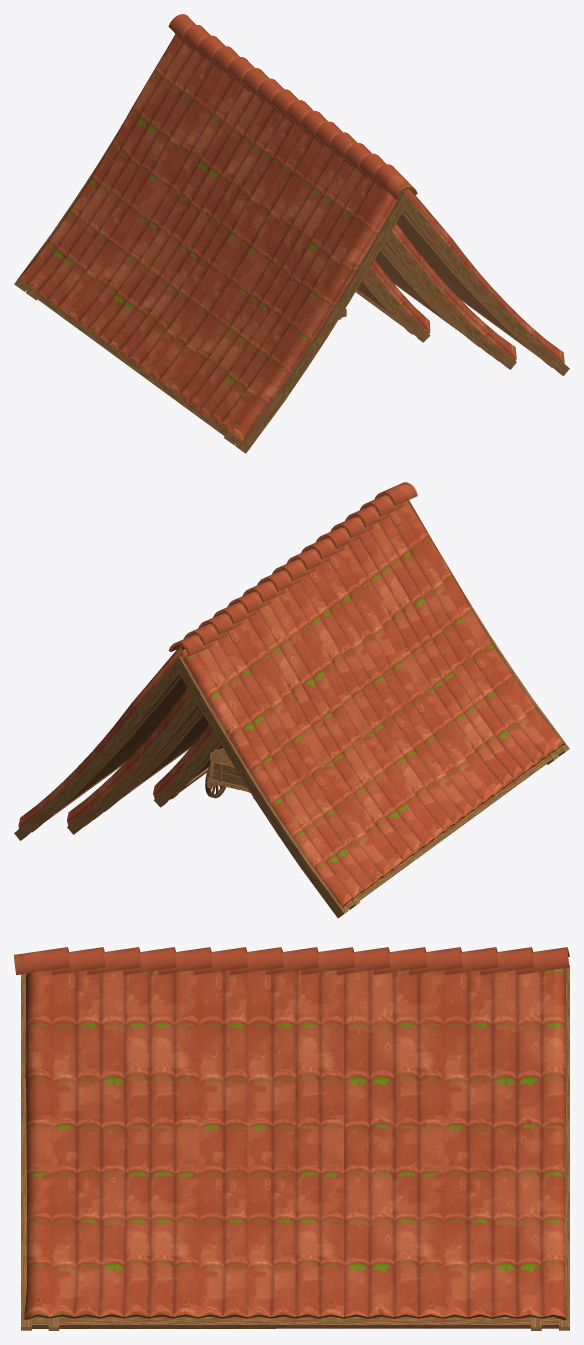
The model's file is village.glb.
3 renders of one model, top to bottom at view 1: azimuth 30°, elevation 25°; view 2: azimuth 150°, elevation 25°; view 3: azimuth 270°, elevation 25°, orthographic. The views are drawn at different scales.
Parts seen in each view (by area): view 1: Roof_RoundTiles_8x10, Roof_RoundTiles_6x8, Roof_RoundTiles_4x4, Roof_RoundTiles_6x6; view 2: Roof_RoundTiles_8x10, Roof_RoundTiles_6x8, Roof_RoundTiles_4x4, Roof_RoundTiles_6x6, Prop_Wagon; view 3: Roof_RoundTiles_8x10.
Boxes of the visible parts, x1,y1,x2,y2 form: Roof_RoundTiles_8x10: (14,14,569,453); Roof_RoundTiles_6x8: (382,223,516,369); Roof_RoundTiles_4x4: (355,260,430,342); Roof_RoundTiles_6x6: (375,245,490,355); Roof_RoundTiles_8x10: (14,482,569,918); Roof_RoundTiles_6x8: (67,688,200,834); Roof_RoundTiles_4x4: (153,724,222,807); Roof_RoundTiles_6x6: (94,710,208,819); Prop_Wagon: (205,748,254,799); Roof_RoundTiles_8x10: (14,947,569,1330).
Bounding box in the file's own units: 9.95 × 6.78 × 11.86.
6 materials, 6 textured.
